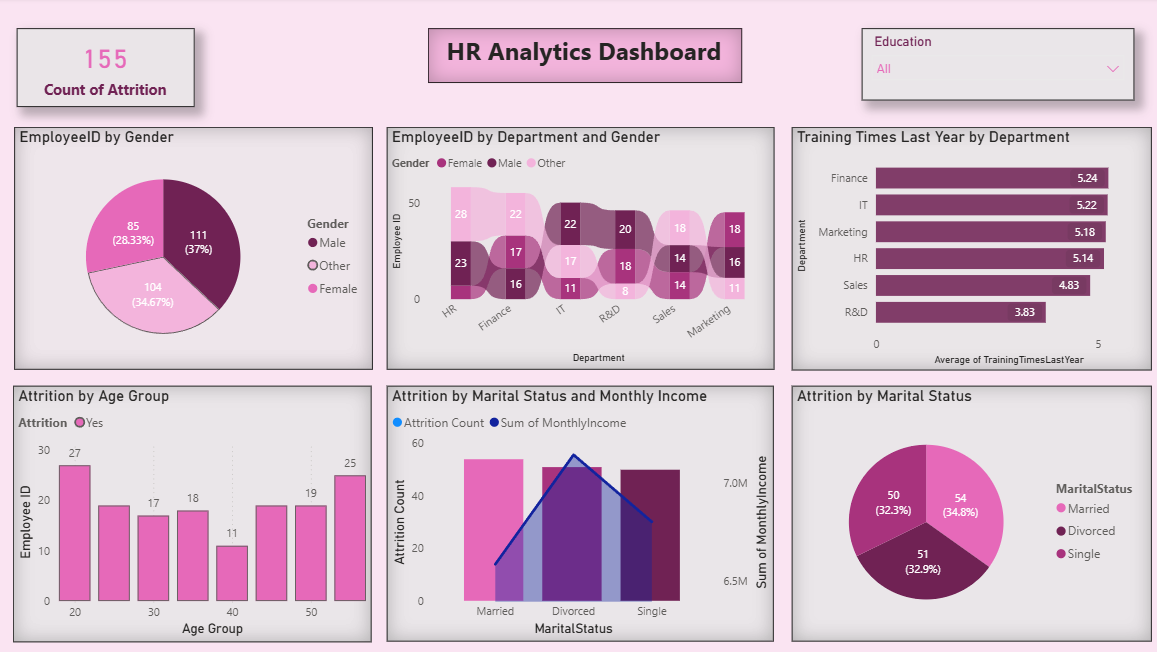

The dashboard page shown, as its layout file describes it:
{"tool":"powerbi","page":{"name":"Page 2","canvas":[1280,720],"ordinal":1},"visuals":[{"type":"pieChart","title":"EmployeeID by Gender","fields":{"Category":["hr_data (1).Gender"],"Y":["CountNonNull(hr_data (1).EmployeeID)"]},"box":[17.8,142.7,393.8,266.2],"z":0},{"type":"textbox","box":[472,34.3,344.4,60.4],"z":1000},{"type":"ribbonChart","title":" EmployeeID by Department and Gender","fields":{"Category":["hr_data (1).Department"],"Y":["CountNonNull(hr_data (1).EmployeeID)"],"Series":["hr_data (1).Gender"]},"box":[426.8,142.7,425.4,266.2],"z":2000},{"type":"barChart","title":"Training Times Last Year by Department","fields":{"Category":["hr_data (1).Department"],"Y":["Avg(hr_data (1).TrainingTimesLastYear)"]},"box":[871.4,142.7,395.2,267.6],"z":3000},{"type":"columnChart","title":"Attrition by Age Group","fields":{"Category":["hr_data (1).Age Group"],"Series":["hr_data (1).Attrition"],"Y":["CountNonNull(hr_data (1).EmployeeID)"]},"box":[16.5,426.8,393.8,281.3],"z":4000},{"type":"card","fields":{"Values":["CountNonNull(hr_data (1).Attrition)"]},"box":[20.6,34.3,194.9,86.4],"z":5000},{"type":"lineClusteredColumnComboChart","title":"Attrition by Marital Status and Monthly Income","fields":{"Category":["hr_data (1).MaritalStatus"],"Y2":["Sum(hr_data (1).MonthlyIncome)"],"Y":["hr_data (1).Attrition Count"]},"box":[427,427,425,281],"z":6000},{"type":"pieChart","title":"Attrition by Marital Status","fields":{"Category":["hr_data (1).MaritalStatus"],"Y":["hr_data (1).Attrition Count"]},"box":[871,427,395,281],"z":7000},{"type":"slicer","fields":{"Values":["hr_data (1).Education"]},"box":[948.2,34.3,299.1,79.6],"z":8000}]}

Visuals, with their boxes in screenshot pixels (x1, y1, x2, y2), scaled from the page's 1280x720 canvas onto the 1157x652 screenshot:
"EmployeeID by Gender" pieChart: select_region(16, 129, 372, 370)
textbox: select_region(427, 31, 738, 86)
" EmployeeID by Department and Gender" ribbonChart: select_region(386, 129, 770, 370)
"Training Times Last Year by Department" barChart: select_region(788, 129, 1145, 372)
"Attrition by Age Group" columnChart: select_region(15, 386, 371, 641)
card - CountNonNull(hr_data (1).Attrition): select_region(19, 31, 195, 109)
"Attrition by Marital Status and Monthly Income" lineClusteredColumnComboChart: select_region(386, 387, 770, 641)
"Attrition by Marital Status" pieChart: select_region(787, 387, 1144, 641)
slicer - hr_data (1).Education: select_region(857, 31, 1127, 103)
